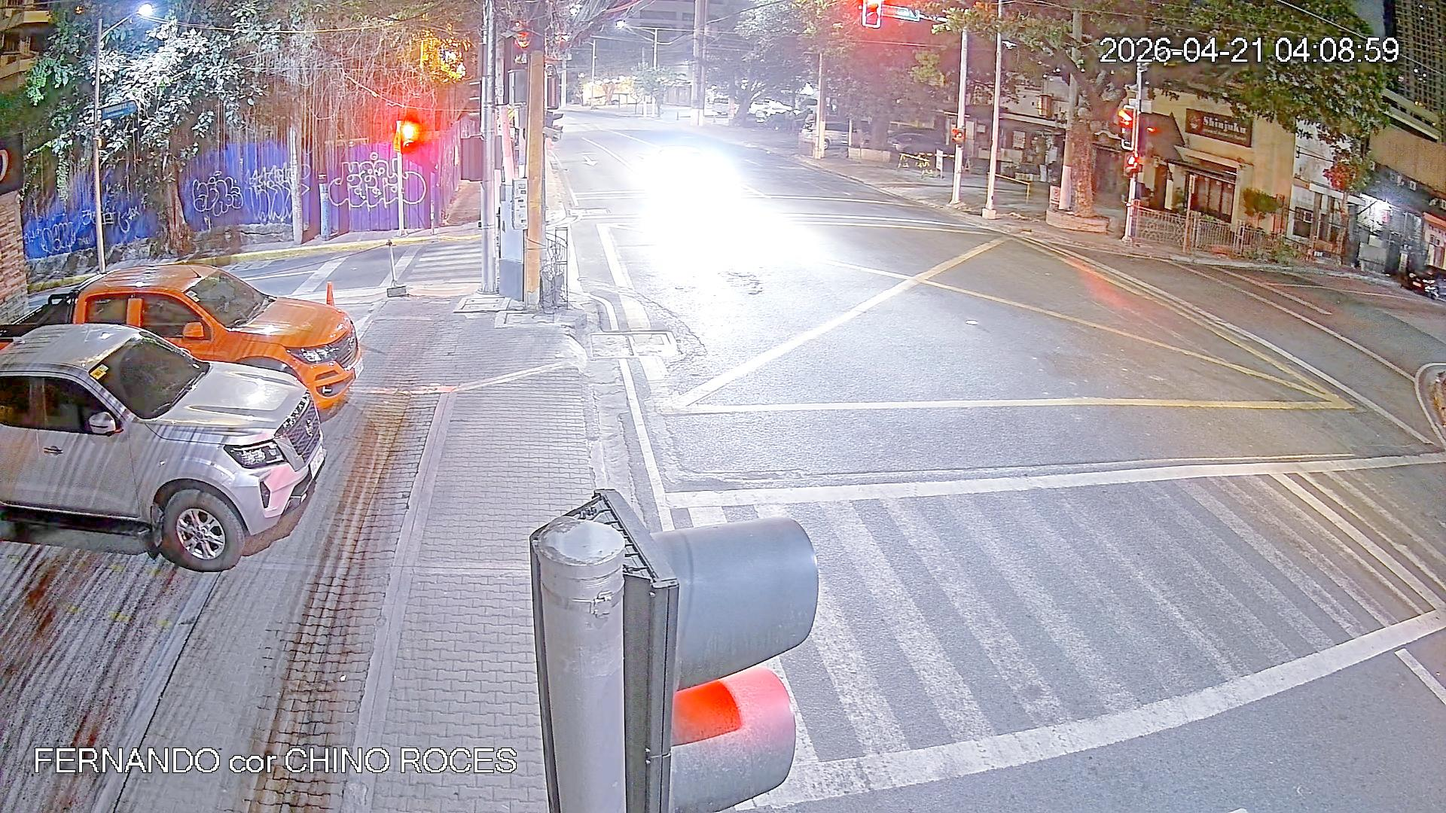Car: (0, 309, 346, 584), (0, 245, 371, 422), (800, 108, 875, 157)
